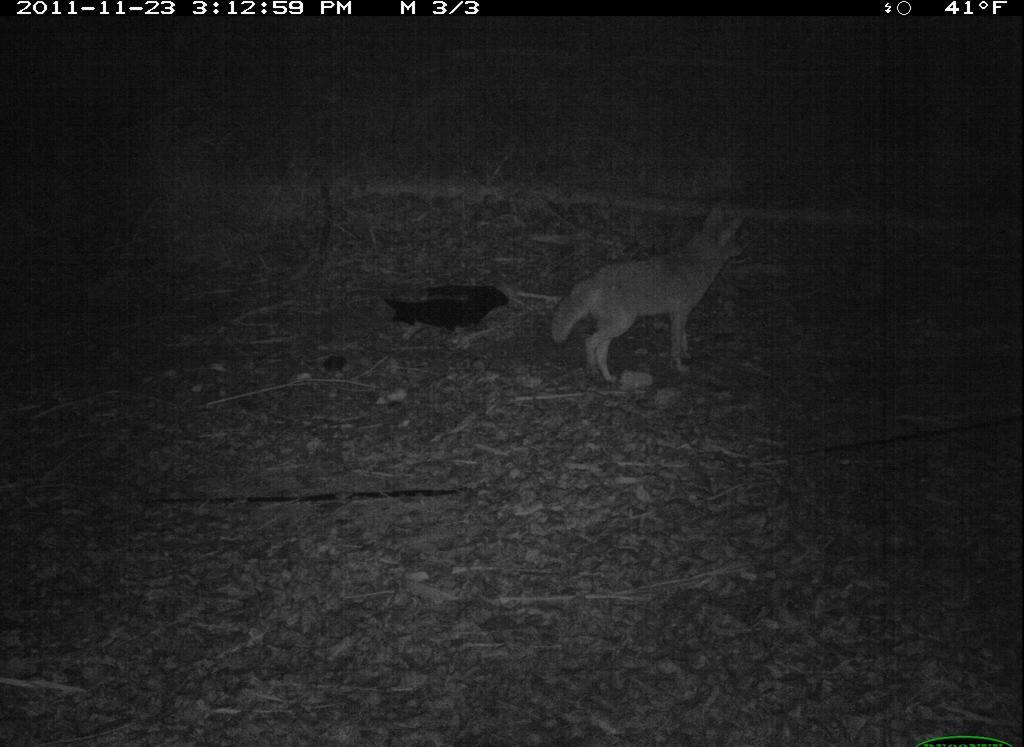coyote: (537, 200, 761, 392)
